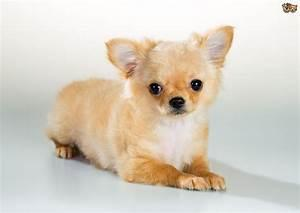dog: (45, 24, 235, 192)
